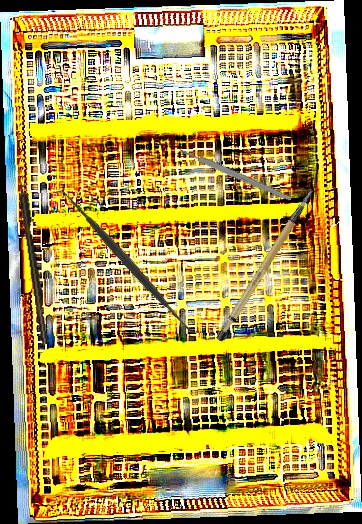Hook Surgical: (15, 168, 50, 345)
Scalpel Handle: (197, 187, 337, 344), (178, 146, 293, 203)
Spatula Surgical: (50, 177, 207, 348)
